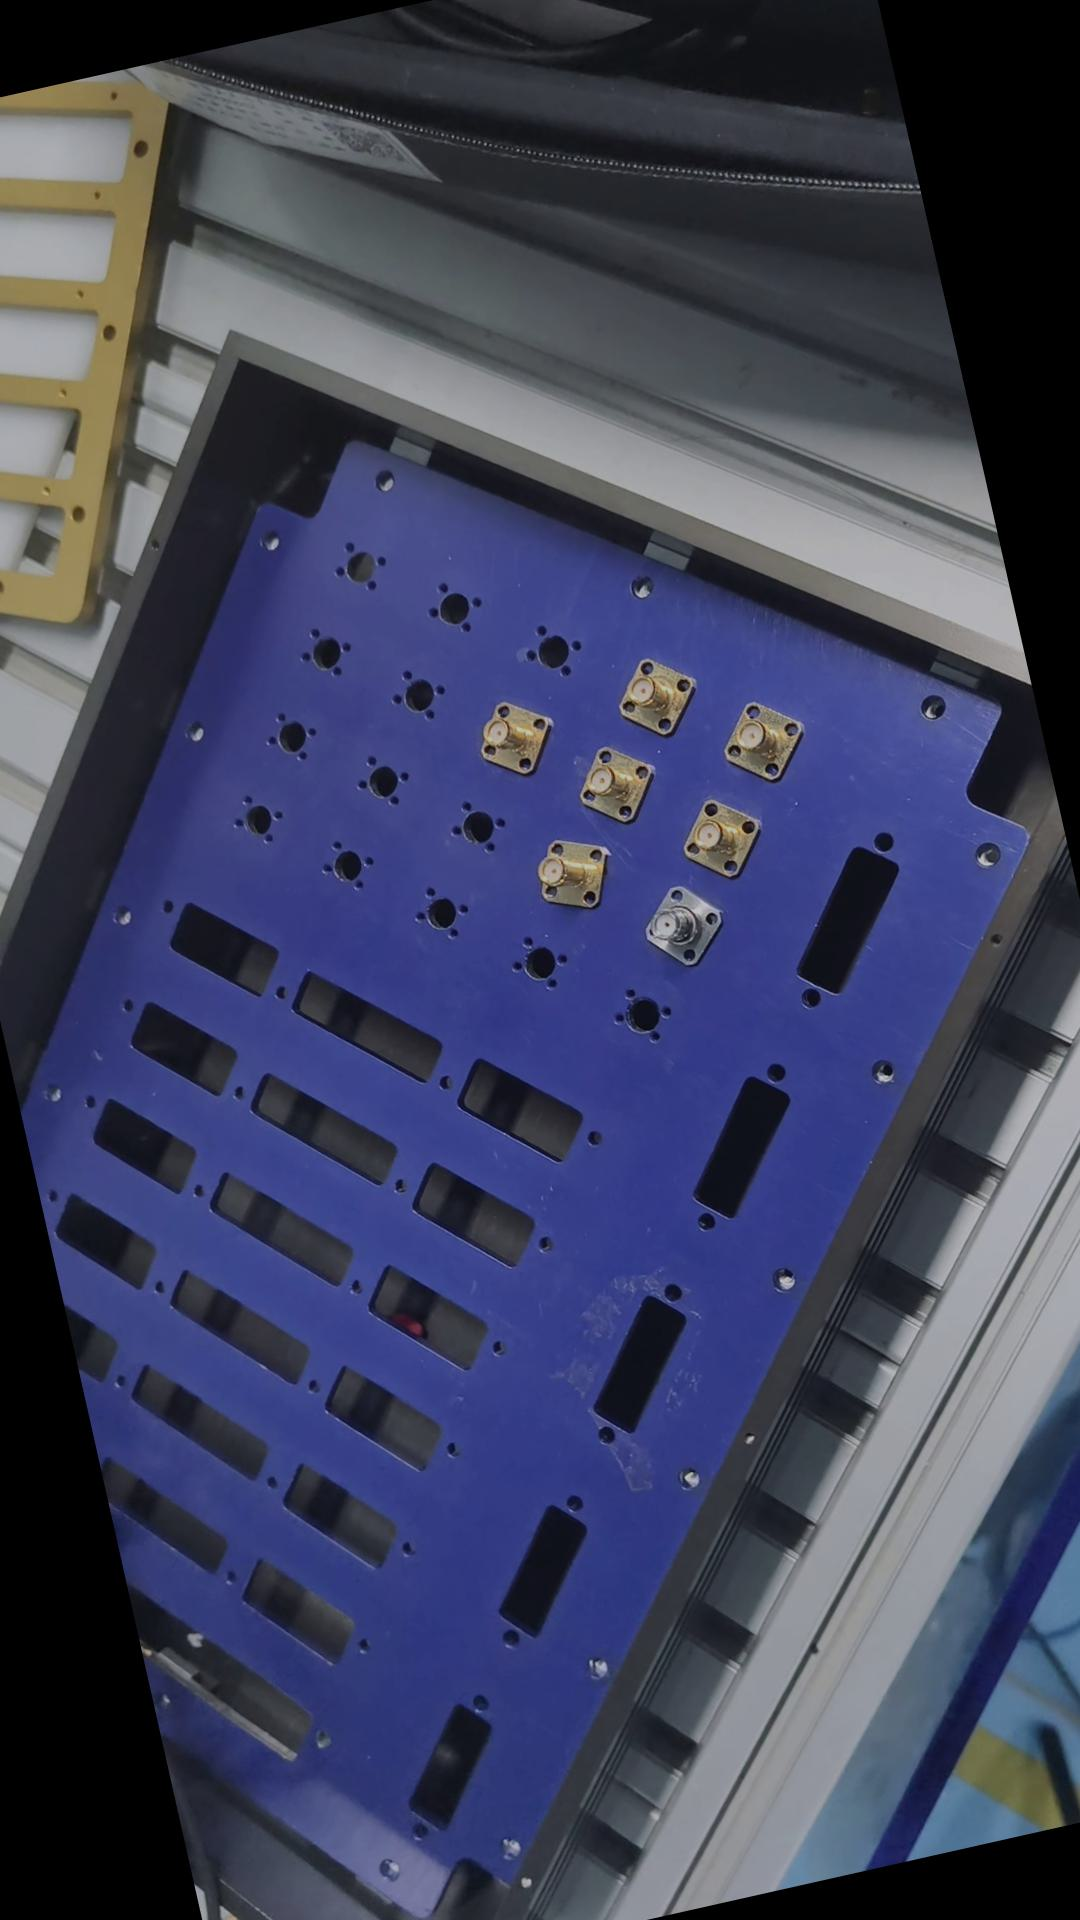SMA: (709, 687, 814, 793), (667, 785, 773, 884), (628, 872, 728, 972), (462, 688, 558, 789), (604, 647, 703, 744), (564, 735, 659, 831), (525, 829, 615, 920)
